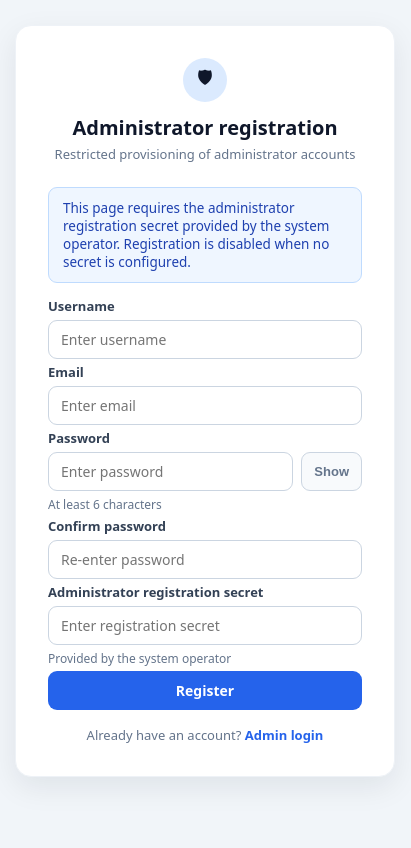
RegisterAdmin page › requires the administrator registration secret
The image size is (411, 848).
Type "New Admin" into the field labelled "Username". click: (205, 340)
box: [48,320,362,359]
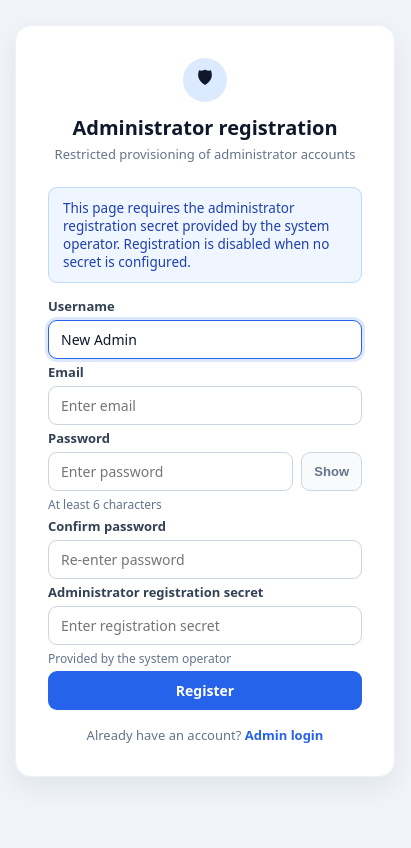
Type "admin2@example.com" into the field labelled "Email". click: (205, 406)
box: [48,386,362,425]
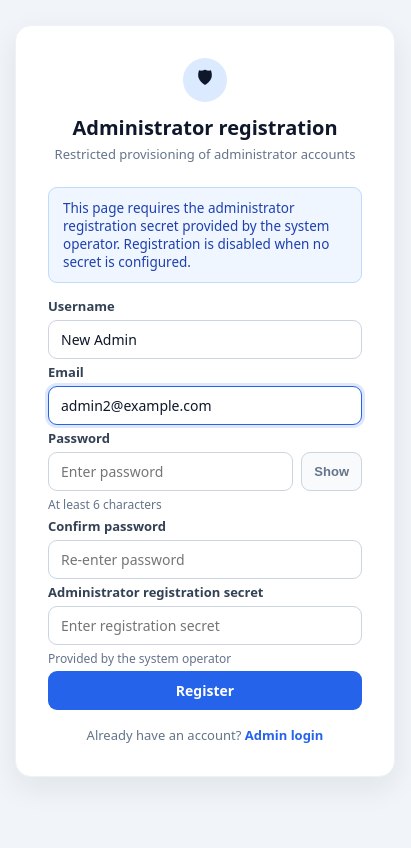
Type "adminpassword" into the password field labelled "Password". click: (171, 472)
box: [48,452,293,491]
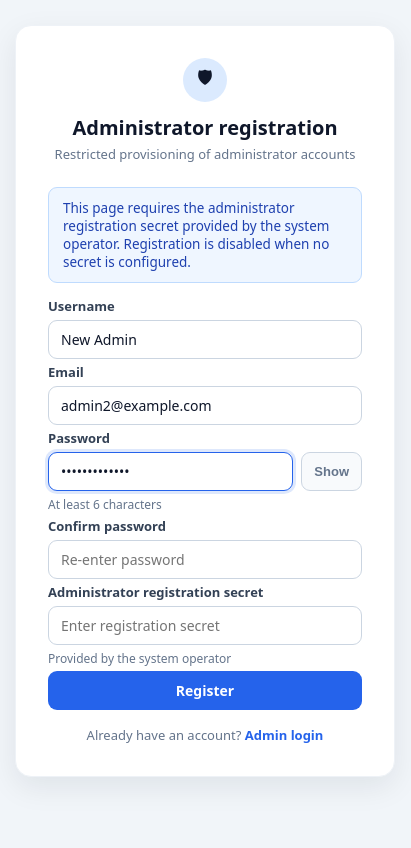
Type "adminpassword" into the password field labelled "Confirm password". click: (205, 560)
box: [48,540,362,579]
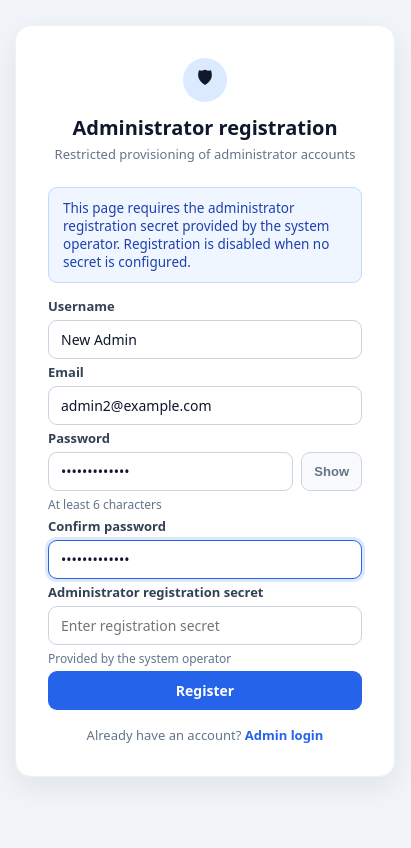
Click the button "Register". click: (205, 690)
box: [48,671,362,710]
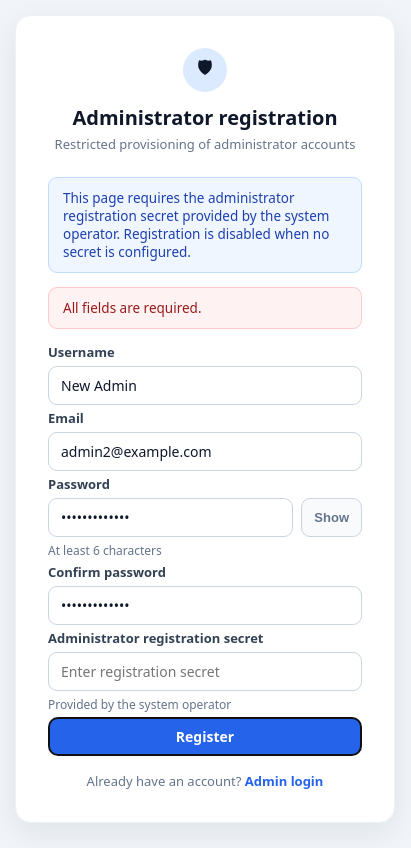
Expected: the text "All fields are required." is shown, [48,287,362,329]
